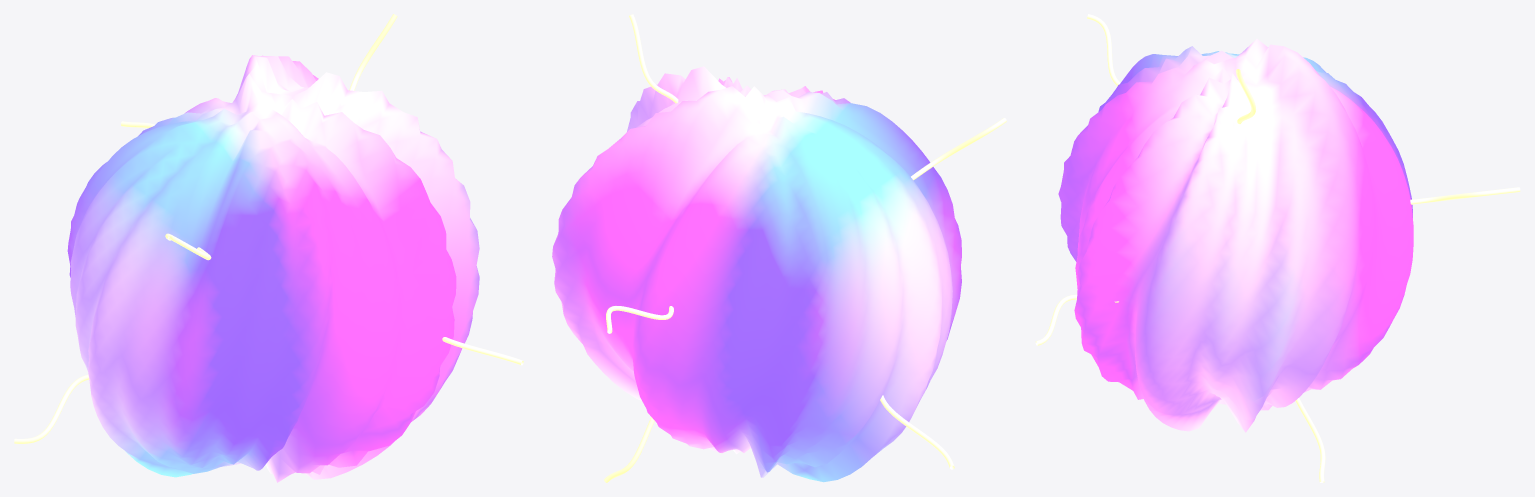
Rendered from fkcrt_manifold.glb.
3 views of the same model, side by side, from view 1: azimuth 30°, elevation 25°; view 2: azimuth 150°, elevation 25°; view 3: azimuth 270°, elevation 25° (orthographic). The views are drawn at different scales.
Visible parts, largest first — view 1: LQGSurface, BesselTreeSpine_4; view 2: LQGSurface, BesselTreeSpine_1, BesselTreeSpine_0, BesselTreeSpine_4, BesselTreeSpine_2; view 3: LQGSurface, BesselTreeSpine_2.
Part boxes in pixels (<box>): LQGSurface: <box>67,55,479,482</box>; BesselTreeSpine_4: <box>14,374,89,443</box>; LQGSurface: <box>552,66,961,482</box>; BesselTreeSpine_1: <box>911,118,1006,180</box>; BesselTreeSpine_0: <box>629,14,678,103</box>; BesselTreeSpine_4: <box>880,395,954,469</box>; BesselTreeSpine_2: <box>606,306,673,333</box>; LQGSurface: <box>1058,39,1413,432</box>; BesselTreeSpine_2: <box>1410,187,1520,204</box>.
Bounding box in the file's own units: 3.96 × 4.2 × 4.37.
